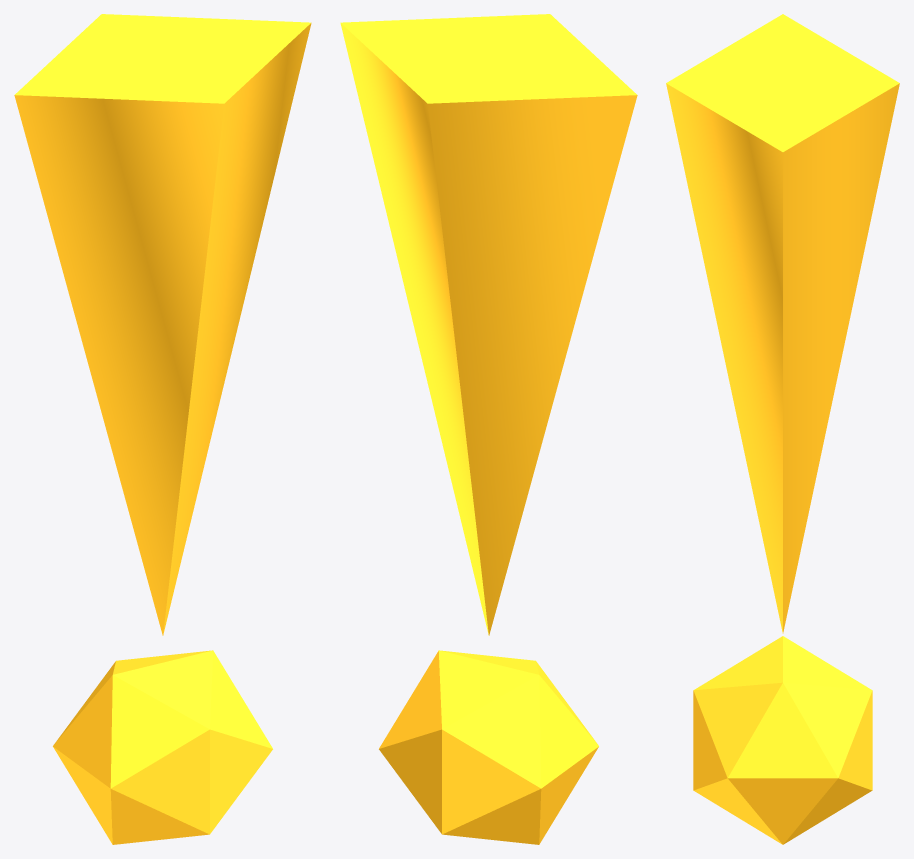
Rendered from exclama.glb.
3 views of the same model, side by side, from view 1: azimuth 30°, elevation 25°; view 2: azimuth 150°, elevation 25°; view 3: azimuth 270°, elevation 25° (orthographic). The views are drawn at different scales.
Parts seen in each view (by area): view 1: exclama; view 2: exclama; view 3: exclama.
Part boxes in pixels (box(x1,y1,x2,y2)): exclama: box(14, 14, 311, 844); exclama: box(340, 14, 637, 844); exclama: box(666, 14, 899, 844).
Bounding box in the file's own units: 0.14 × 0.3483 × 0.1.
